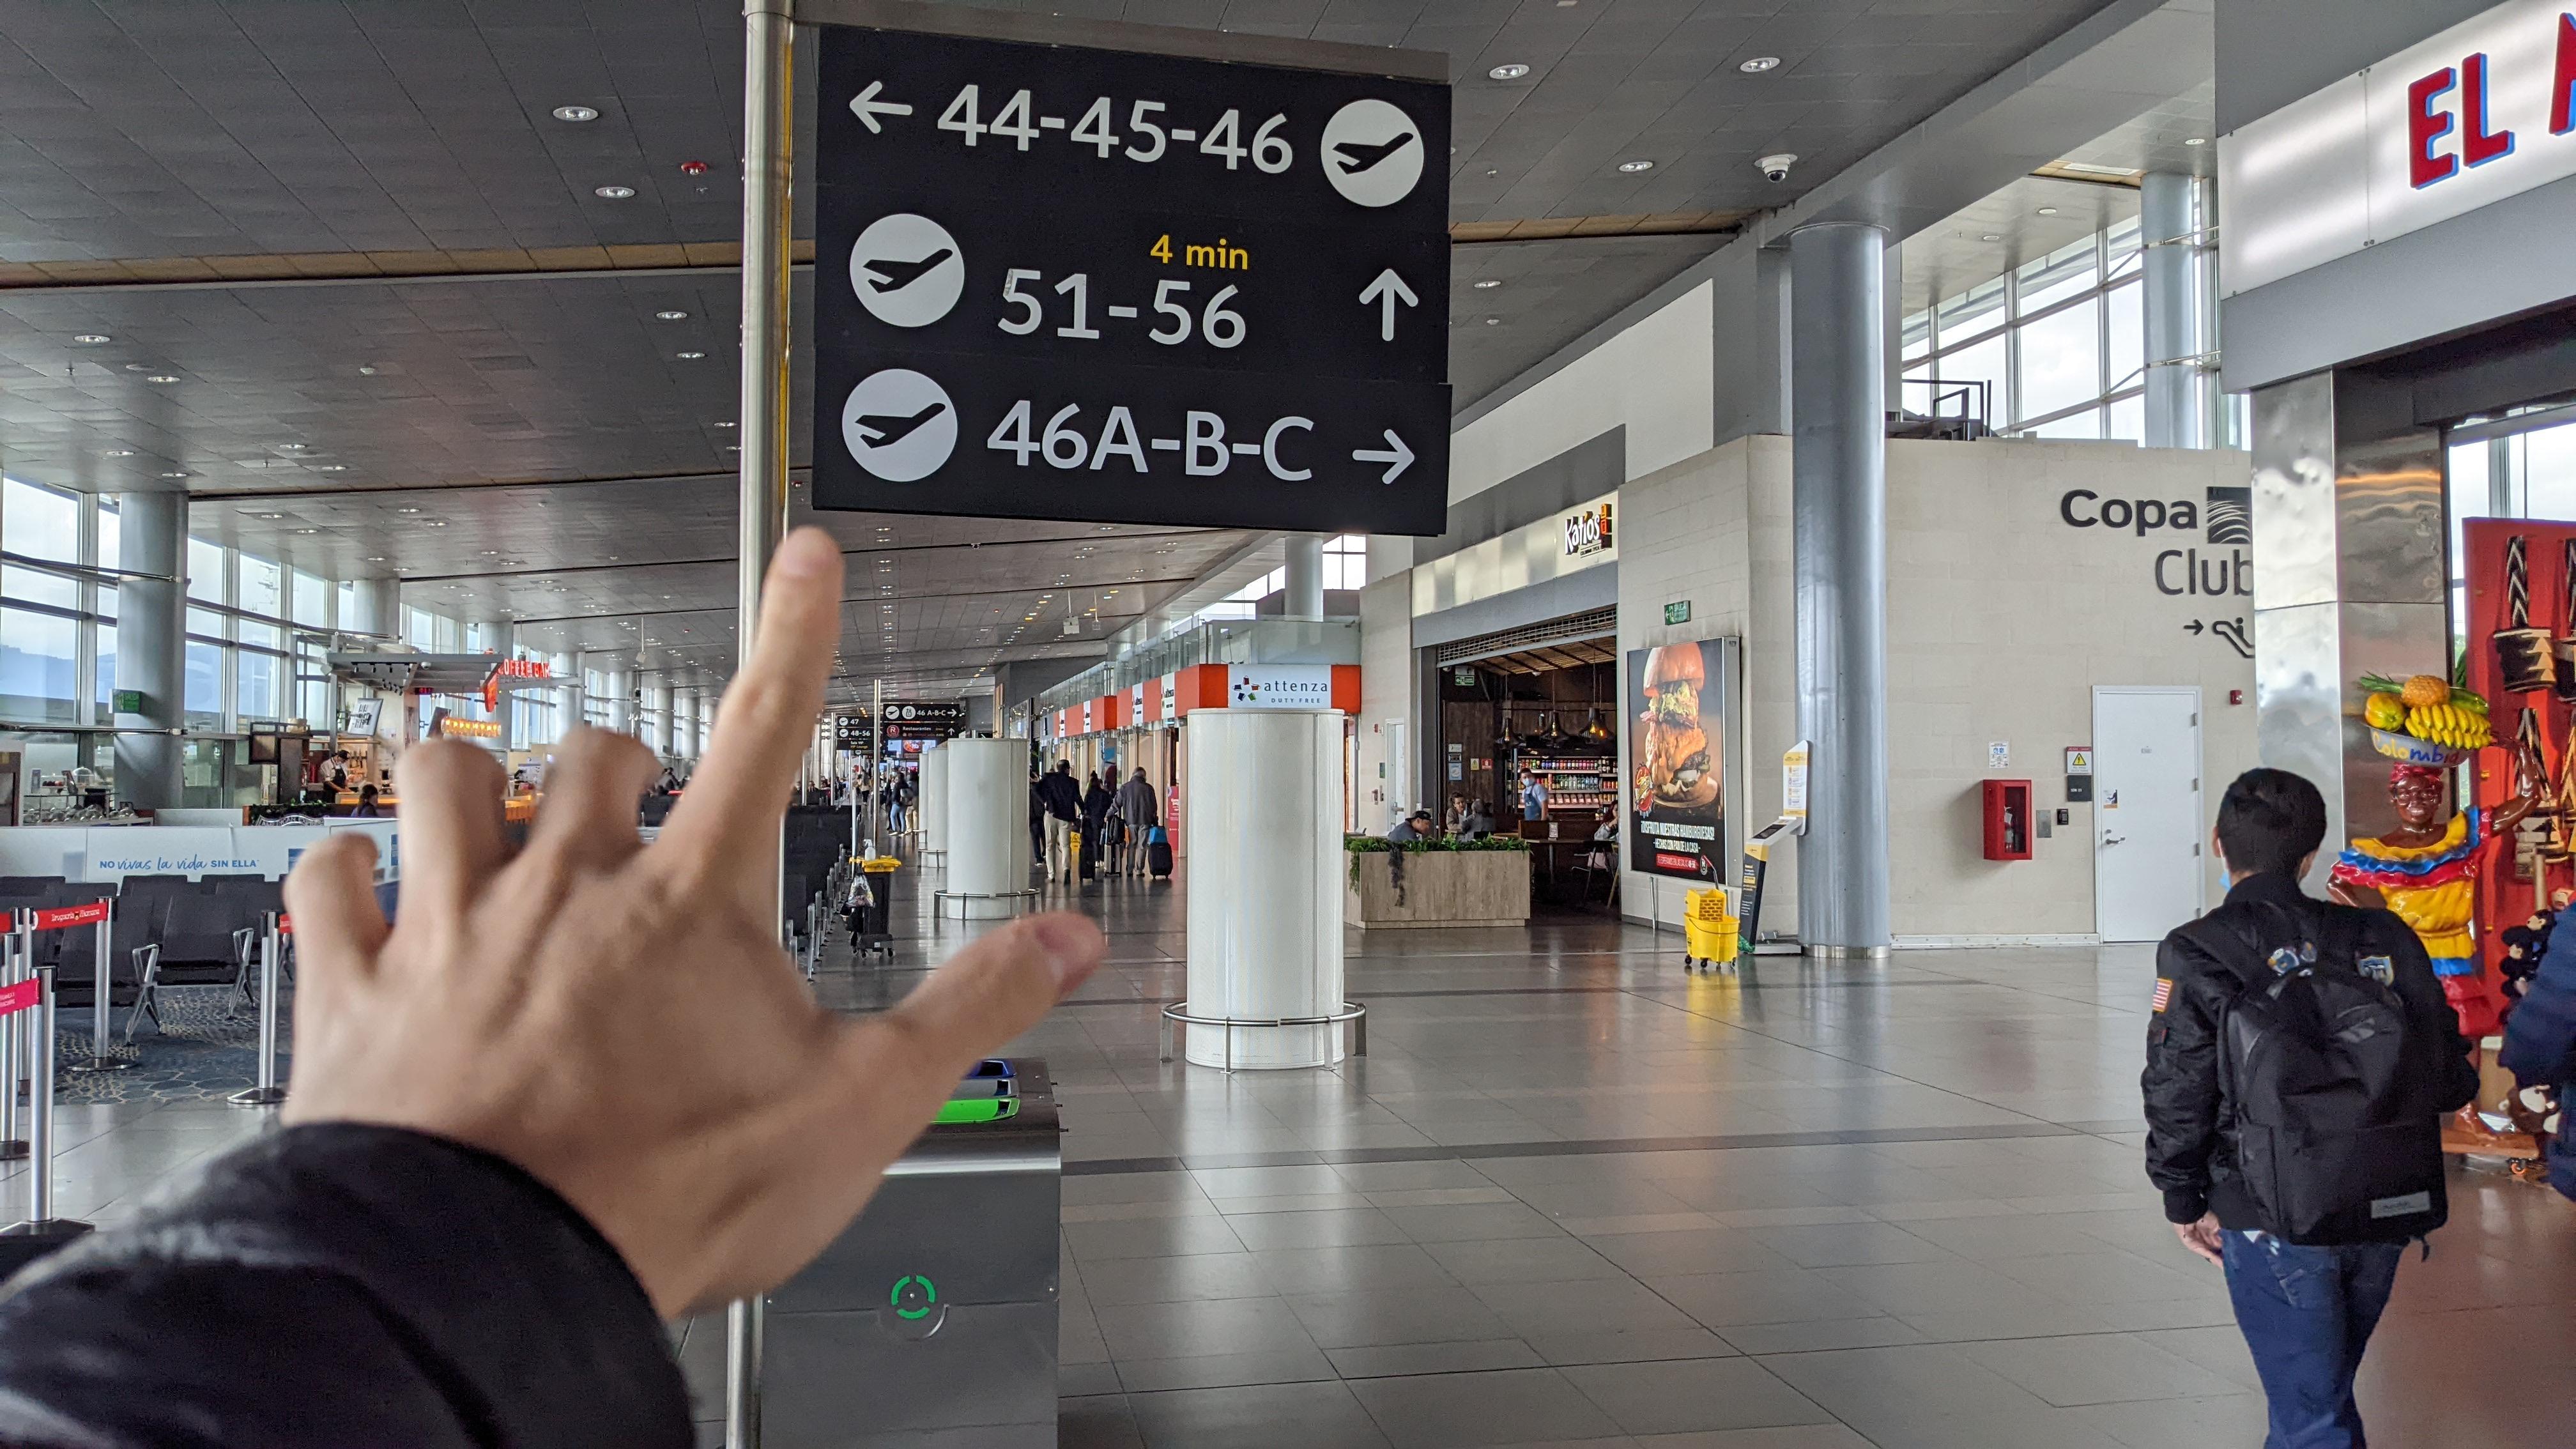airplane symbol: (851, 398, 952, 455), (862, 246, 955, 297), (1332, 129, 1415, 179), (886, 709, 899, 717), (840, 731, 847, 736), (840, 718, 846, 724)
left arrow: (846, 78, 913, 136)
right arrow: (1352, 426, 1421, 487), (947, 708, 957, 718)
up arrow: (1359, 265, 1421, 347), (947, 727, 955, 736)
